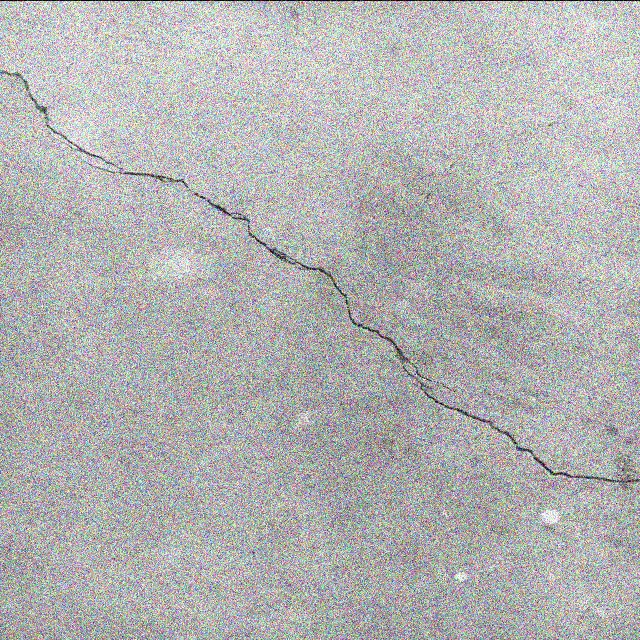SurfaceCrack: (1, 8, 640, 527)
